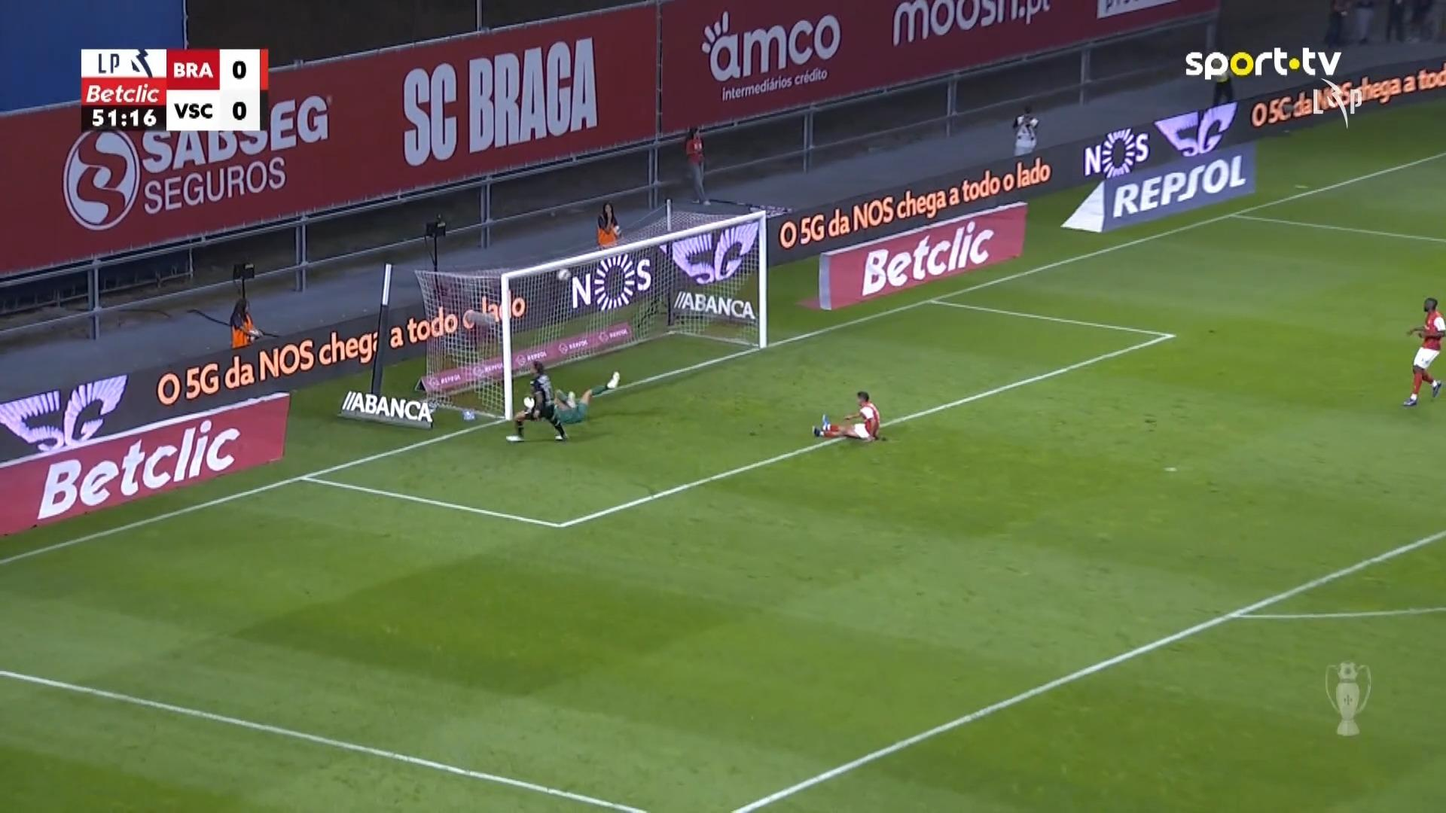ball: (523, 395, 534, 407)
goalkeeper: (515, 371, 621, 423)
player: (505, 359, 567, 442), (1401, 297, 1444, 406), (551, 370, 621, 425), (811, 390, 881, 442)
